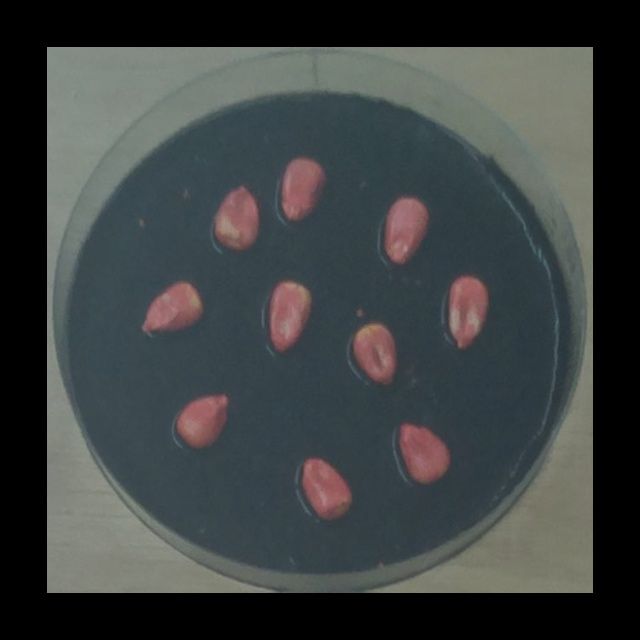Zea mays: (261, 274, 320, 359), (389, 416, 456, 490), (135, 276, 208, 342), (294, 452, 357, 527), (378, 192, 435, 273), (441, 270, 494, 354), (275, 151, 331, 229), (209, 180, 265, 257), (169, 389, 233, 456), (346, 318, 402, 392)
